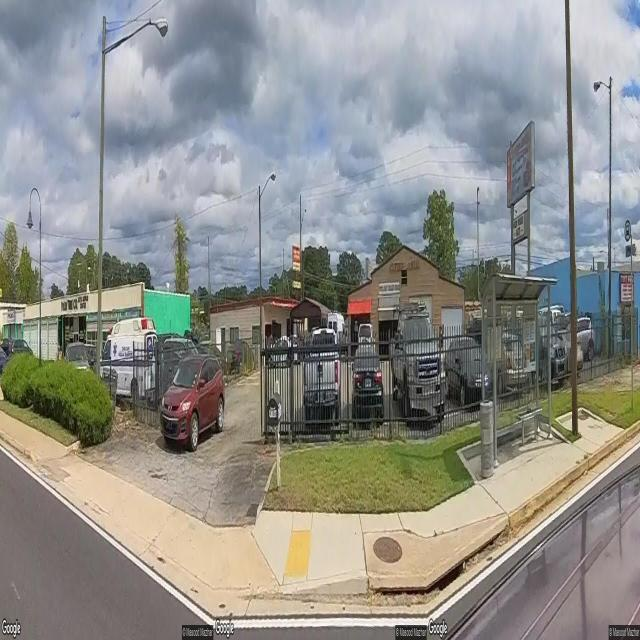seating: (514, 406, 542, 448)
shelter: (479, 273, 560, 467)
trash_can: (481, 399, 494, 478)
